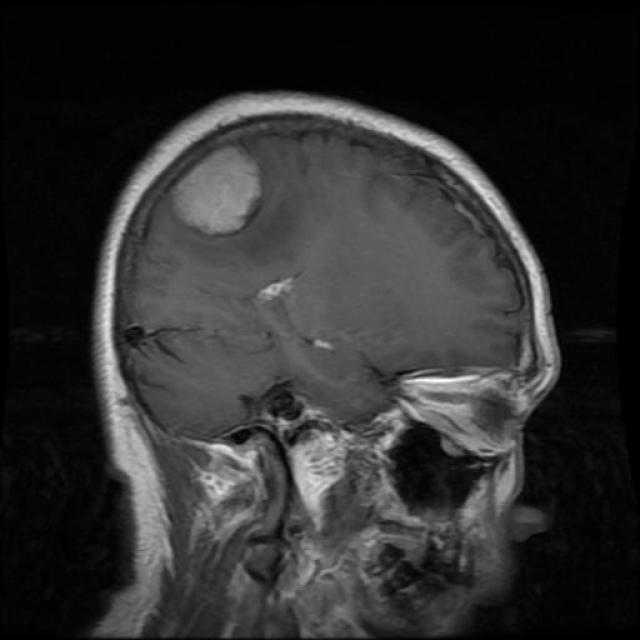meningioma: (174, 148, 261, 236)
